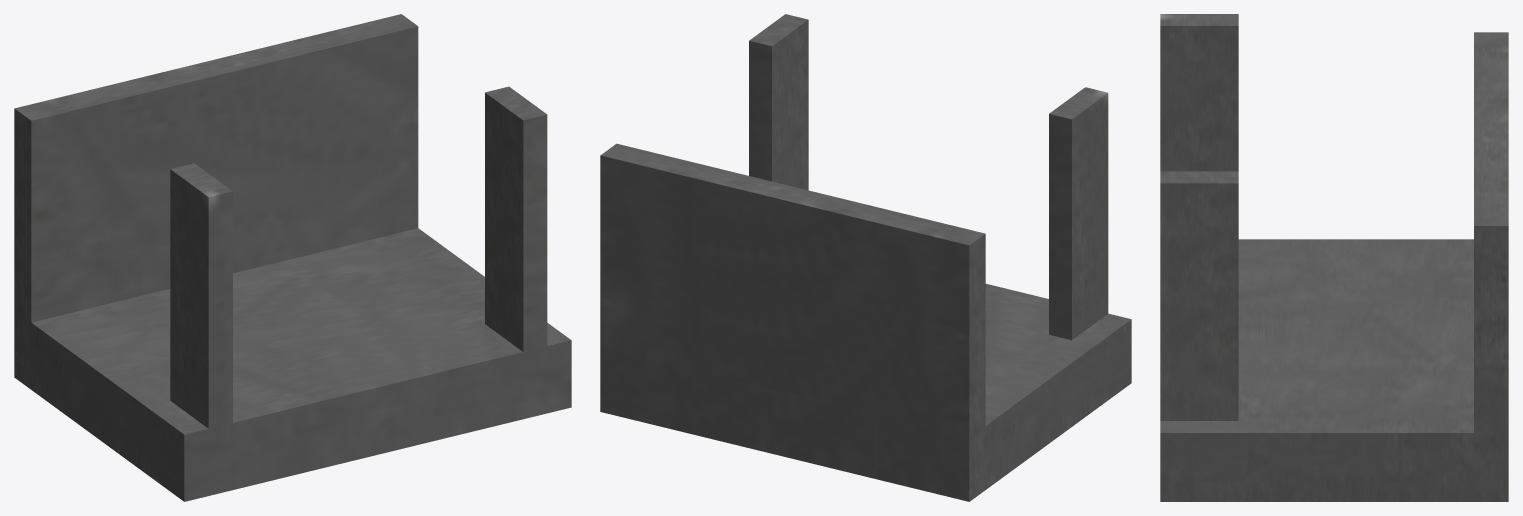
Rendered from frame.fbx.
3 renders of one model, left to right at view 1: azimuth 30°, elevation 25°; view 2: azimuth 150°, elevation 25°; view 3: azimuth 270°, elevation 25°, orthographic. The views are drawn at different scales.
Parts seen in each view (by area): view 1: pCube6; view 2: pCube6; view 3: pCube6.
Part boxes in pixels (bbox=[...]): pCube6: bbox=[14, 14, 571, 501]; pCube6: bbox=[600, 14, 1131, 501]; pCube6: bbox=[1160, 14, 1508, 501].
Size of the model in its own units: 5273 by 3890 by 4011.
1 material, 1 textured.
